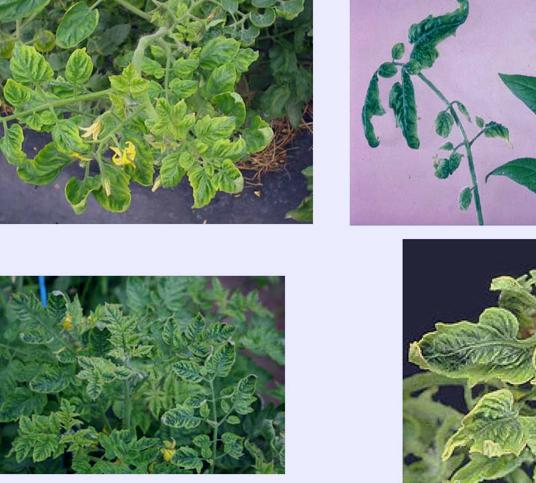Tomato leaf yellow virus: (402, 308, 536, 388), (432, 388, 536, 468), (10, 42, 56, 93), (93, 166, 137, 211), (224, 371, 266, 414), (208, 336, 251, 376), (200, 34, 244, 73), (211, 161, 257, 198), (51, 122, 90, 162), (65, 47, 101, 90), (193, 114, 238, 144), (0, 124, 25, 176), (10, 295, 50, 326), (158, 401, 200, 429), (159, 151, 188, 191), (172, 360, 217, 384), (169, 447, 206, 474), (203, 323, 242, 345), (2, 80, 35, 105), (183, 309, 209, 340), (34, 429, 58, 461), (58, 398, 78, 434), (161, 316, 180, 352), (128, 433, 160, 454), (169, 79, 201, 100), (85, 372, 104, 404), (154, 98, 180, 120), (15, 434, 34, 464), (149, 121, 175, 142), (17, 415, 38, 438), (112, 364, 138, 382), (106, 77, 130, 95), (131, 81, 158, 96), (79, 356, 100, 369), (120, 318, 137, 334)
